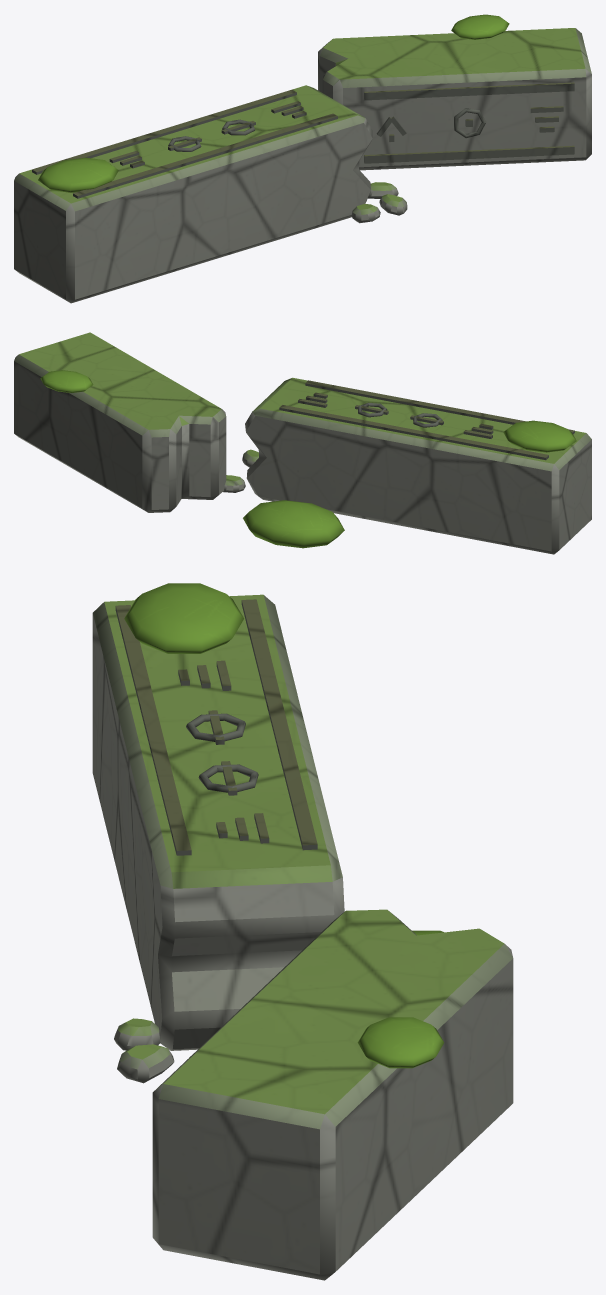
Rendered from stone_lintel_fallen.glb.
3 views of the same model, one above another, from view 1: azimuth 30°, elevation 25°; view 2: azimuth 150°, elevation 25°; view 3: azimuth 270°, elevation 25° (orthographic). The views are drawn at different scales.
Parts seen in each view (by area): view 1: stone_lintel_fallen; view 2: stone_lintel_fallen; view 3: stone_lintel_fallen.
Boxes of the visible parts, bbox=[...] form: stone_lintel_fallen: bbox=[14, 14, 591, 303]; stone_lintel_fallen: bbox=[14, 332, 591, 554]; stone_lintel_fallen: bbox=[92, 583, 513, 1280].
Size of the model in its own units: 3.67 by 0.754 by 1.26.
3 materials, 3 textured.
